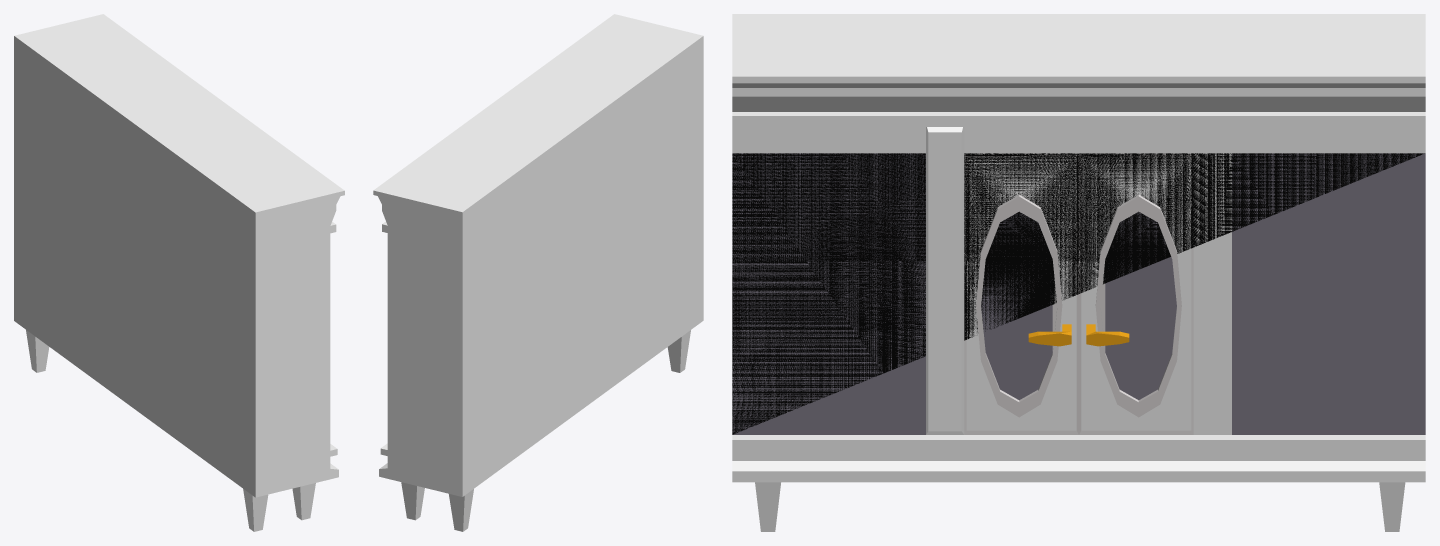
File: magic-wardrobe.gltf
3 views of the same model, side by side, from view 1: azimuth 30°, elevation 25°; view 2: azimuth 150°, elevation 25°; view 3: azimuth 270°, elevation 25° (orthographic). The views are drawn at different scales.
Size of the model in its own units: 63 by 218 by 290.
1 material, 1 textured.
